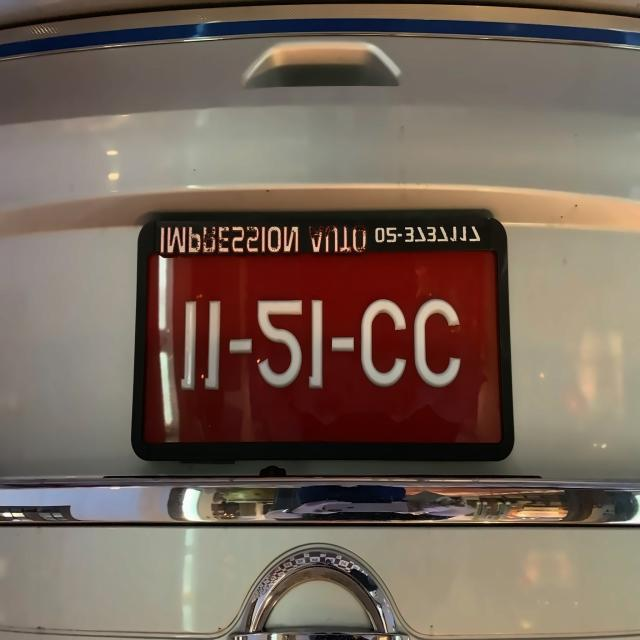car-plate: (125, 210, 514, 461)
